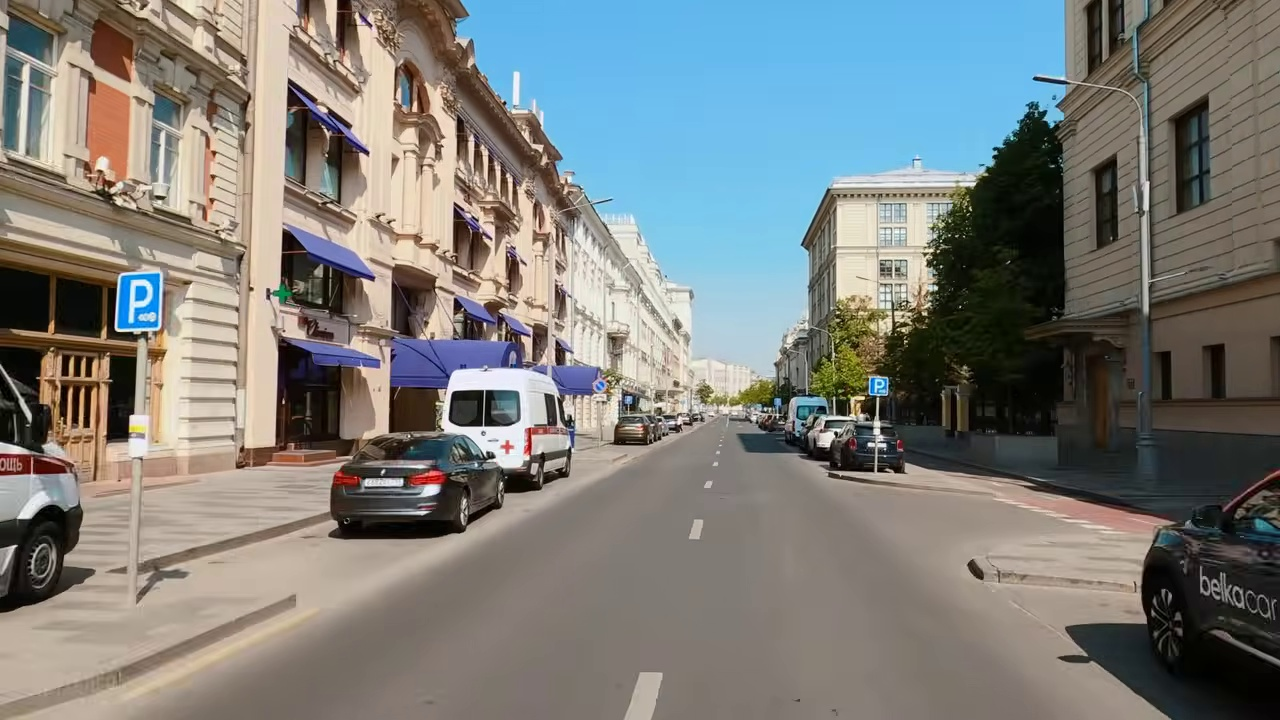apagada: (1030, 63, 1073, 92)
